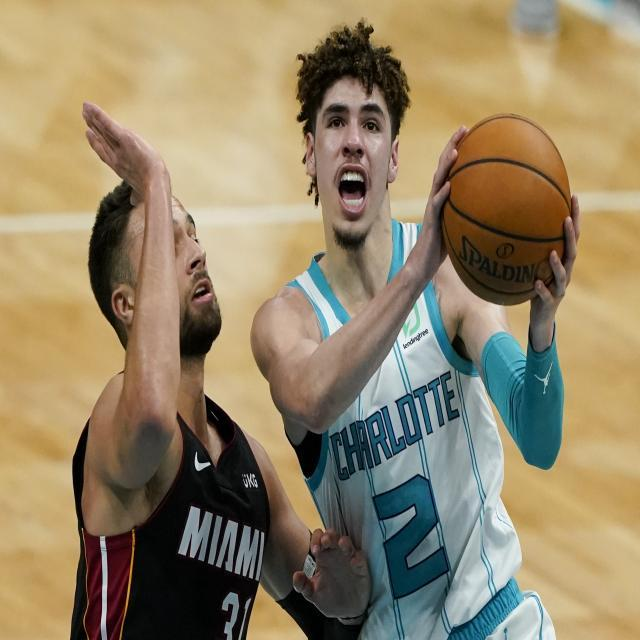rim: (439, 120, 572, 309)
